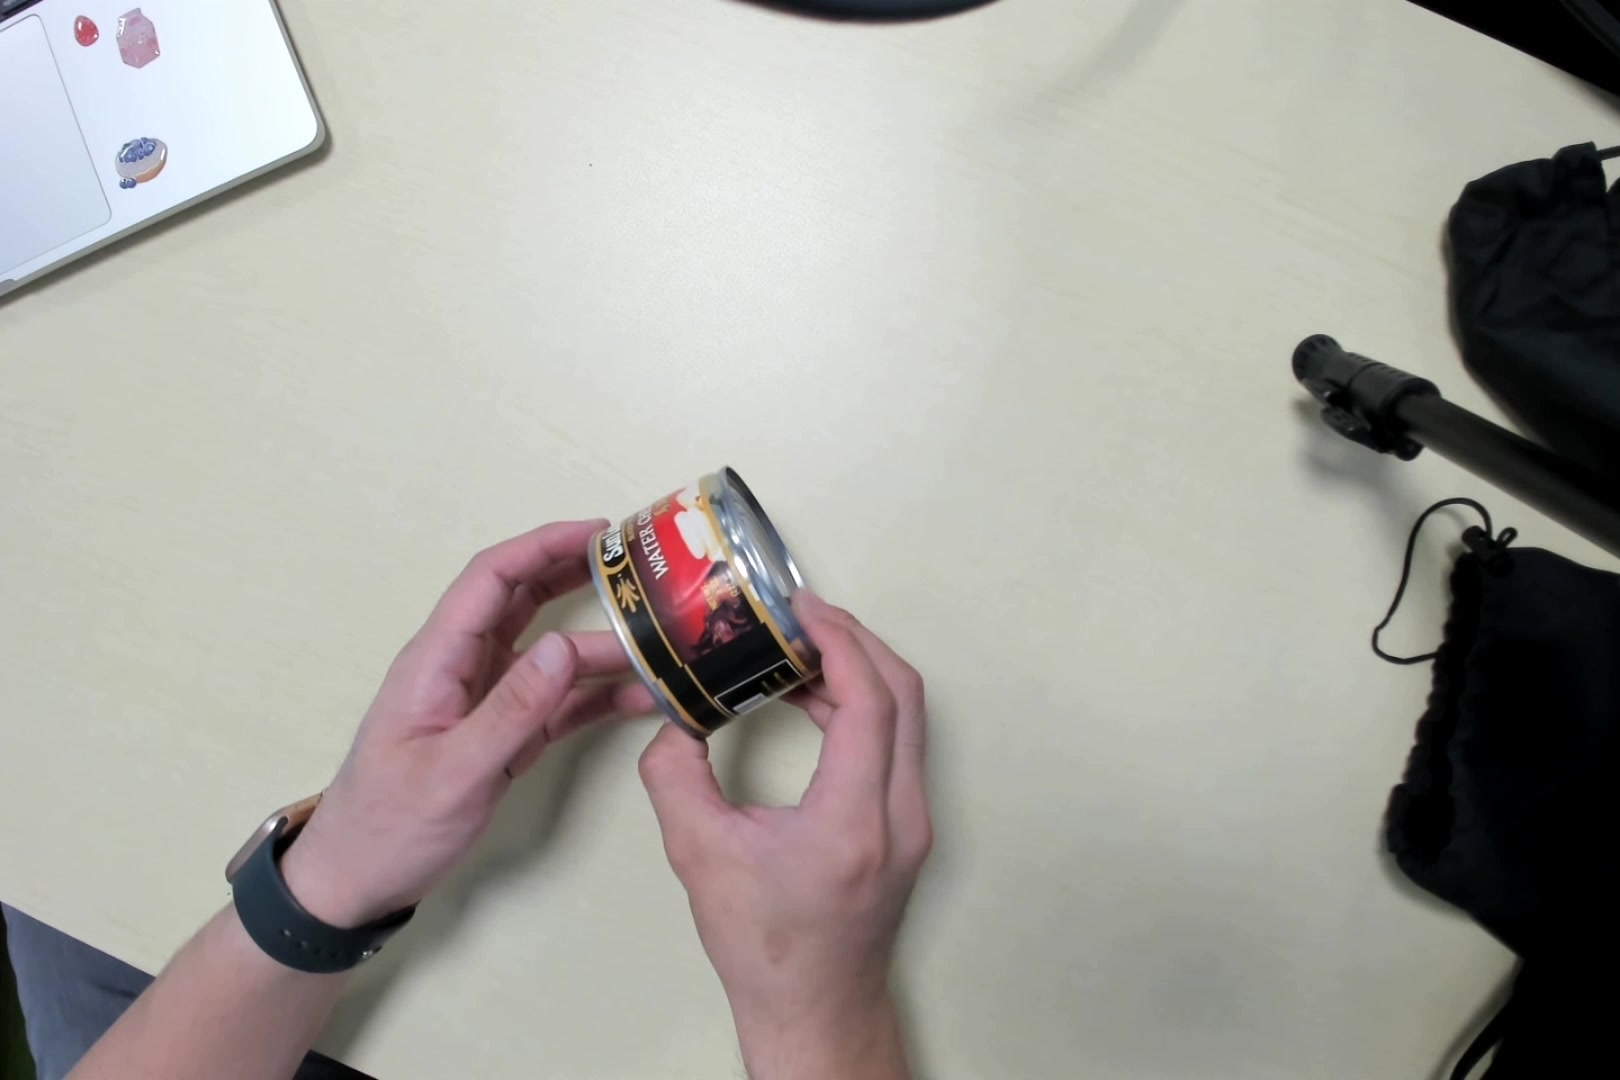CannedVegetarianFood_100-199g_Halal_NonHealthy: (589, 466, 829, 730)
